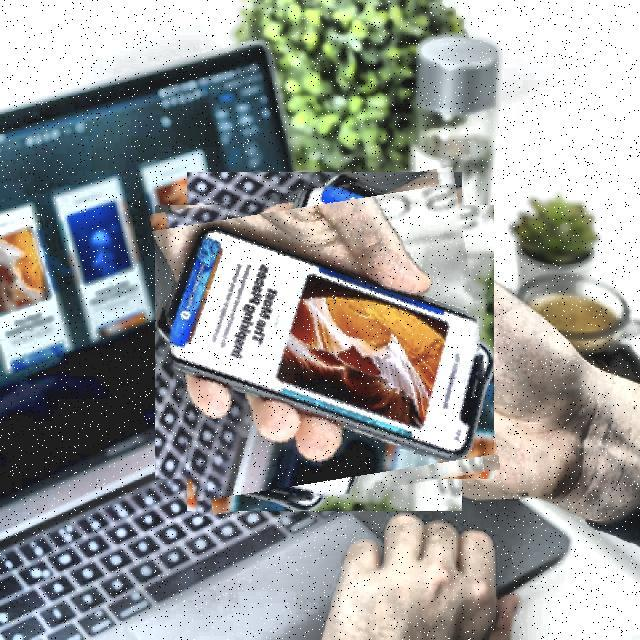Phone: (160, 177, 489, 506)
